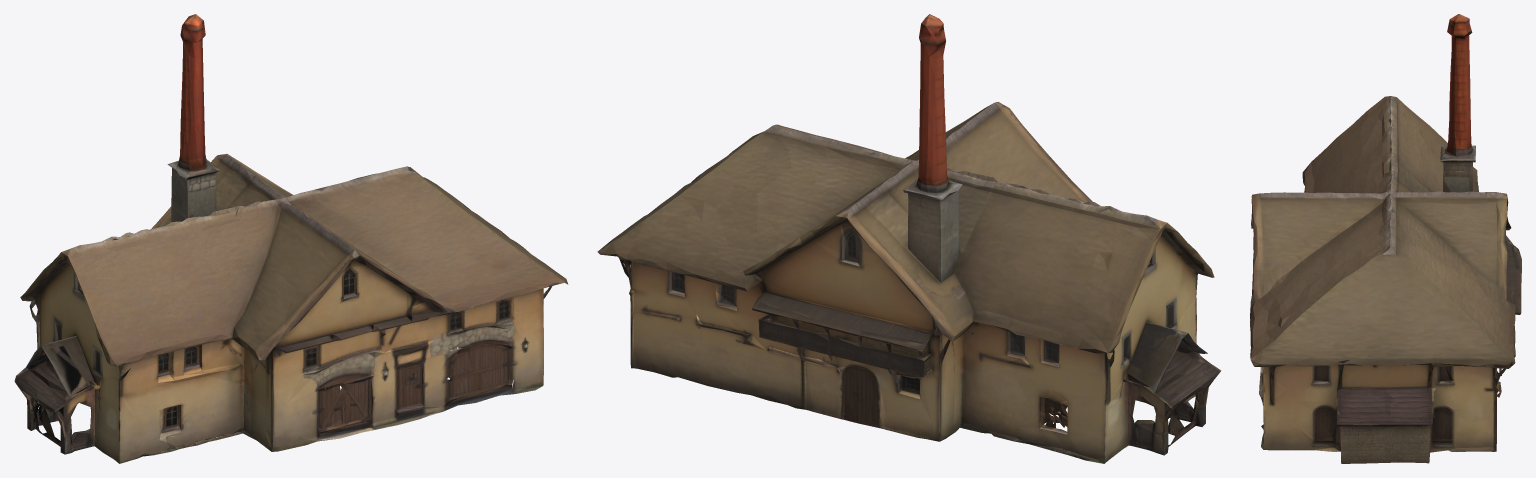
File: simple_factory_buildi_0606184101_texture.fbx
3 renders of one model, left to right at view 1: azimuth 30°, elevation 25°; view 2: azimuth 150°, elevation 25°; view 3: azimuth 270°, elevation 25°, orthographic. The views are drawn at different scales.
Parts seen in each view (by area): view 1: temp; view 2: temp; view 3: temp.
Boxes of the visible parts, x1,y1,x2,y2 form: temp: (14, 14, 568, 463); temp: (597, 14, 1221, 463); temp: (1250, 14, 1521, 463).
Bounding box in the file's own units: 200 × 143 × 107.
Materials: 1 (1 with a texture image).
